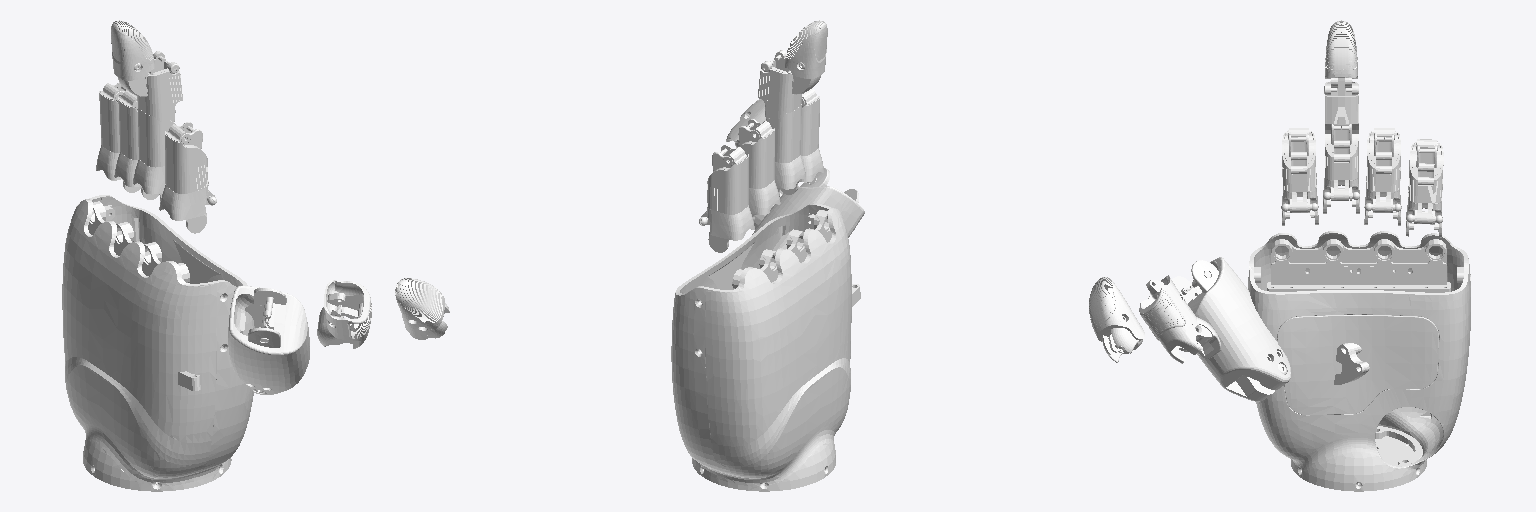
URDF robot description (likerhand_o7_1_left.urdf):
<?xml version="1.0" encoding="utf-8"?>
<!-- This URDF was automatically created by SolidWorks to URDF Exporter! Originally created by [author] ([email redacted]) 
     Commit Version: 1.6.0-4-g7f85cfe  Build Version: 1.6.7995.38578
     For more information, please see http://wiki.ros.org/sw_urdf_exporter -->
<robot
  name="likerhand_o7_1_left.urdf">
  <link
    name="hand_base_link">
    <inertial>
      <origin
        xyz="-0.0042500911837508 0.00085680978297864 0.0748400307377518"
        rpy="0 0 0" />
      <mass
        value="0.225124072566834" />
      <inertia
        ixx="0.000307215791868368"
        ixy="-2.62393594835236E-06"
        ixz="-6.32980141818779E-06"
        iyy="0.000204974944876431"
        iyz="3.62195604578169E-06"
        izz="0.000138551118704521" />
    </inertial>
    <visual>
      <origin
        xyz="0 0 0"
        rpy="0 0 0" />
      <geometry>
        <mesh
          filename="meshes/hand_base_link.STL" />
      </geometry>
      <material
        name="">
        <color
          rgba="1 1 1 1" />
      </material>
    </visual>
    <collision>
      <origin
        xyz="0 0 0"
        rpy="0 0 0" />
      <geometry>
        <mesh
          filename="meshes/hand_base_link.STL" />
      </geometry>
    </collision>
  </link>
  <link
    name="thumb_metacarpals_base1">
    <inertial>
      <origin
        xyz="0.0221868758326095 -9.48625995070285E-06 -0.00324883171979469"
        rpy="0 0 0" />
      <mass
        value="0.0115244960032222" />
      <inertia
        ixx="3.08657221406028E-06"
        ixy="2.39576891596808E-09"
        ixz="3.1376074283793E-07"
        iyy="4.37069643376973E-06"
        iyz="1.08562146715063E-09"
        izz="1.95654132689649E-06" />
    </inertial>
    <visual>
      <origin
        xyz="0 0 0"
        rpy="0 0 0" />
      <geometry>
        <mesh
          filename="meshes/thumb_metacarpals_base1.STL" />
      </geometry>
      <material
        name="">
        <color
          rgba="1 1 1 1" />
      </material>
    </visual>
    <collision>
      <origin
        xyz="0 0 0"
        rpy="0 0 0" />
      <geometry>
        <mesh
          filename="meshes/thumb_metacarpals_base1.STL" />
      </geometry>
    </collision>
  </link>
  <joint
    name="thumb_cmc_roll"
    type="revolute">
    <origin
      xyz="-0.016939 -0.018427 0.057465"
      rpy="0 0 0" />
    <parent
      link="hand_base_link" />
    <child
      link="thumb_metacarpals_base1" />
    <axis
      xyz="-1 0 0" />
    <limit
      lower="-0.785"
      upper="0.785"
      effort="100"
      velocity="1" />
  </joint>
  <link
    name="thumb_metacarpals_base2">
    <inertial>
      <origin
        xyz="0.000732158506501421 -0.00116891771237498 -0.00114043413649958"
        rpy="0 0 0" />
      <mass
        value="0.0194012482707974" />
      <inertia
        ixx="3.11023242394477E-06"
        ixy="7.00345951479998E-07"
        ixz="-3.45895864415883E-08"
        iyy="2.43362631795933E-06"
        iyz="5.55699212497148E-08"
        izz="2.77691812675186E-06" />
    </inertial>
    <visual>
      <origin
        xyz="0 0 0"
        rpy="0 0 0" />
      <geometry>
        <mesh
          filename="meshes/thumb_metacarpals_base2.STL" />
      </geometry>
      <material
        name="">
        <color
          rgba="1 1 1 1" />
      </material>
    </visual>
    <collision>
      <origin
        xyz="0 0 0"
        rpy="0 0 0" />
      <geometry>
        <mesh
          filename="meshes/thumb_metacarpals_base2.STL" />
      </geometry>
    </collision>
  </link>
  <joint
    name="thumb_cmc_yaw"
    type="revolute">
    <origin
      xyz="0.029224 0.00012028 0.0020117"
      rpy="0 0 0" />
    <parent
      link="thumb_metacarpals_base1" />
    <child
      link="thumb_metacarpals_base2" />
    <axis
      xyz="0 0 1" />
    <limit
      lower="0"
      upper="1.57"
      effort="100"
      velocity="1" />
  </joint>
  <link
    name="thumb_metacarpals">
    <inertial>
      <origin
        xyz="0.00175928357967789 5.98422066862003E-05 0.0251802708380432"
        rpy="0 0 0" />
      <mass
        value="0.0177522528853587" />
      <inertia
        ixx="2.97620250609612E-06"
        ixy="-1.75606406726447E-10"
        ixz="8.88206077184725E-08"
        iyy="4.02119583080426E-06"
        iyz="-5.14340714112944E-10"
        izz="1.61792798866592E-06" />
    </inertial>
    <visual>
      <origin
        xyz="0 0 0"
        rpy="0 0 0" />
      <geometry>
        <mesh
          filename="meshes/thumb_metacarpals.STL" />
      </geometry>
      <material
        name="">
        <color
          rgba="1 1 1 1" />
      </material>
    </visual>
    <collision>
      <origin
        xyz="0 0 0"
        rpy="0 0 0" />
      <geometry>
        <mesh
          filename="meshes/thumb_metacarpals.STL" />
      </geometry>
    </collision>
  </link>
  <joint
    name="thumb_cmc_pitch"
    type="revolute">
    <origin
      xyz="0.015425 -0.024408 -0.0034929"
      rpy="0 -1.1075 2.1313" />
    <parent
      link="thumb_metacarpals_base2" />
    <child
      link="thumb_metacarpals" />
    <axis
      xyz="0 1 0" />
    <limit
      lower="0"
      upper="0.5285"
      effort="100"
      velocity="1" />
  </joint>
  <link
    name="thumb_proximal">
    <inertial>
      <origin
        xyz="-0.000134514656695575 -6.2245440023978E-06 0.0155657254696806"
        rpy="0 0 0" />
      <mass
        value="0.00522318022645753" />
      <inertia
        ixx="9.25272679777908E-07"
        ixy="8.8733597010757E-12"
        ixz="1.11610235976856E-07"
        iyy="8.23288983910426E-07"
        iyz="-4.13122351934137E-11"
        izz="4.09240194803836E-07" />
    </inertial>
    <visual>
      <origin
        xyz="0 0 0"
        rpy="0 0 0" />
      <geometry>
        <mesh
          filename="meshes/thumb_proximal.STL" />
      </geometry>
      <material
        name="">
        <color
          rgba="1 1 1 1" />
      </material>
    </visual>
    <collision>
      <origin
        xyz="0 0 0"
        rpy="0 0 0" />
      <geometry>
        <mesh
          filename="meshes/thumb_proximal.STL" />
      </geometry>
    </collision>
  </link>
  <joint
    name="thumb_mcp"
    type="revolute">
    <origin
      xyz="0.0049422 0 0.050268"
      rpy="0 0 0" />
    <parent
      link="thumb_metacarpals" />
    <child
      link="thumb_proximal" />
    <axis
      xyz="0 1 0" />
    <limit
      lower="0"
      upper="1.186"
      effort="100"
      velocity="1" />
    <mimic
      joint="thumb_cmc_pitch"
      multiplier="2.24"
      offset="0" />
  </joint>
  <link
    name="thumb_distal">
    <inertial>
      <origin
        xyz="-0.0012828823583598 8.66398637835997E-06 0.0121296195661648"
        rpy="0 0 0" />
      <mass
        value="0.0059927321340954" />
      <inertia
        ixx="3.54974702508419E-07"
        ixy="2.25470558333717E-10"
        ixz="1.02705988899827E-07"
        iyy="3.68385773825653E-07"
        iyz="5.55834292489291E-11"
        izz="2.80219721351633E-07" />
    </inertial>
    <visual>
      <origin
        xyz="0 0 0"
        rpy="0 0 0" />
      <geometry>
        <mesh
          filename="meshes/thumb_distal.STL" />
      </geometry>
      <material
        name="">
        <color
          rgba="1 1 1 1" />
      </material>
    </visual>
    <collision>
      <origin
        xyz="0 0 0"
        rpy="0 0 0" />
      <geometry>
        <mesh
          filename="meshes/thumb_distal.STL" />
      </geometry>
    </collision>
  </link>
  <joint
    name="thumb_ip"
    type="revolute">
    <origin
      xyz="-0.0040391 0 0.036444"
      rpy="0 0 0" />
    <parent
      link="thumb_proximal" />
    <child
      link="thumb_distal" />
    <axis
      xyz="0 1 0" />
    <limit
      lower="0"
      upper="1.256"
      effort="100"
      velocity="1" />
    <mimic
      joint="thumb_cmc_pitch"
      multiplier="2.38"
      offset="0" />
  </joint>
  <link
    name="index_proximal">
    <inertial>
      <origin
        xyz="-0.00325184022307572 -5.73777268036979E-05 0.0195194519488432"
        rpy="0 0 0" />
      <mass
        value="0.00304918852223857" />
      <inertia
        ixx="2.70561430617686E-07"
        ixy="4.04016903074442E-10"
        ixz="3.98546481487138E-08"
        iyy="2.61413228132876E-07"
        iyz="1.27694129235523E-09"
        izz="1.43213403424246E-07" />
    </inertial>
    <visual>
      <origin
        xyz="0 0 0"
        rpy="0 0 0" />
      <geometry>
        <mesh
          filename="meshes/index_proximal.STL" />
      </geometry>
      <material
        name="">
        <color
          rgba="1 1 1 1" />
      </material>
    </visual>
    <collision>
      <origin
        xyz="0 0 0"
        rpy="0 0 0" />
      <geometry>
        <mesh
          filename="meshes/index_proximal.STL" />
      </geometry>
    </collision>
  </link>
  <joint
    name="index_mcp_pitch"
    type="revolute">
    <origin
      xyz="-0.0010899 -0.027484 0.1273"
      rpy="0.017453 0 0" />
    <parent
      link="hand_base_link" />
    <child
      link="index_proximal" />
    <axis
      xyz="0 1 0" />
    <limit
      lower="0"
      upper="1.325"
      effort="100"
      velocity="1" />
  </joint>
  <link
    name="index_middle">
    <inertial>
      <origin
        xyz="-0.00220166605939472 0.000343544227875414 0.0115244041402905"
        rpy="0 0 0" />
      <mass
        value="0.00325826222115125" />
      <inertia
        ixx="2.84903328684065E-07"
        ixy="-1.91220675187704E-09"
        ixz="4.46236233645146E-08"
        iyy="2.60287147871894E-07"
        iyz="4.72747608453597E-09"
        izz="1.33240305815556E-07" />
    </inertial>
    <visual>
      <origin
        xyz="0 0 0"
        rpy="0 0 0" />
      <geometry>
        <mesh
          filename="meshes/index_middle.STL" />
      </geometry>
      <material
        name="">
        <color
          rgba="1 1 1 1" />
      </material>
    </visual>
    <collision>
      <origin
        xyz="0 0 0"
        rpy="0 0 0" />
      <geometry>
        <mesh
          filename="meshes/index_middle.STL" />
      </geometry>
    </collision>
  </link>
  <joint
    name="index_pip"
    type="revolute">
    <origin
      xyz="-0.0033727 0 0.03351"
      rpy="0 0 0" />
    <parent
      link="index_proximal" />
    <child
      link="index_middle" />
    <axis
      xyz="0 1 0" />
    <limit
      lower="0"
      upper="1.57"
      effort="100"
      velocity="1" />
    <mimic
      joint="index_mcp_pitch"
      multiplier="1.18"
      offset="0" />
  </joint>
  <link
    name="index_distal">
    <inertial>
      <origin
        xyz="0.000205192768436009 5.00807908632439E-05 0.0116640269704398"
        rpy="0 0 0" />
      <mass
        value="0.00386914599414329" />
      <inertia
        ixx="2.13092899098193E-07"
        ixy="-4.43659936071928E-10"
        ixz="4.32266496521949E-08"
        iyy="2.07077941254489E-07"
        iyz="3.00868537950707E-09"
        izz="1.20295876651976E-07" />
    </inertial>
    <visual>
      <origin
        xyz="0 0 0"
        rpy="0 0 0" />
      <geometry>
        <mesh
          filename="meshes/index_distal.STL" />
      </geometry>
      <material
        name="">
        <color
          rgba="1 1 1 1" />
      </material>
    </visual>
    <collision>
      <origin
        xyz="0 0 0"
        rpy="0 0 0" />
      <geometry>
        <mesh
          filename="meshes/index_distal.STL" />
      </geometry>
    </collision>
  </link>
  <joint
    name="index_dip"
    type="revolute">
    <origin
      xyz="-0.0050438 0 0.025752"
      rpy="0 0 0" />
    <parent
      link="index_middle" />
    <child
      link="index_distal" />
    <axis
      xyz="0 1 0" />
    <limit
      lower="0"
      upper="1"
      effort="100"
      velocity="1" />
    <mimic
      joint="index_mcp_pitch"
      multiplier="0.7493"
      offset="0" />
  </joint>
  <link
    name="middle_proximal">
    <inertial>
      <origin
        xyz="-0.00325186288012639 -5.73454626350833E-05 0.0195195889004449"
        rpy="0 0 0" />
      <mass
        value="0.00304916574973766" />
      <inertia
        ixx="2.70554051207578E-07"
        ixy="4.03711836861357E-10"
        ixz="3.98537937936656E-08"
        iyy="2.61406398624621E-07"
        iyz="1.278882248156E-09"
        izz="1.43213023085845E-07" />
    </inertial>
    <visual>
      <origin
        xyz="0 0 0"
        rpy="0 0 0" />
      <geometry>
        <mesh
          filename="meshes/middle_proximal.STL" />
      </geometry>
      <material
        name="">
        <color
          rgba="1 1 1 1" />
      </material>
    </visual>
    <collision>
      <origin
        xyz="0 0 0"
        rpy="0 0 0" />
      <geometry>
        <mesh
          filename="meshes/middle_proximal.STL" />
      </geometry>
    </collision>
  </link>
  <joint
    name="middle_mcp_pitch"
    type="revolute">
    <origin
      xyz="-0.0030759 -0.0081771 0.1323"
      rpy="0 0 0" />
    <parent
      link="hand_base_link" />
    <child
      link="middle_proximal" />
    <axis
      xyz="0 1 0" />
    <limit
      lower="0"
      upper="1.325"
      effort="100"
      velocity="1" />
  </joint>
  <link
    name="middle_middle">
    <inertial>
      <origin
        xyz="-0.00220166778232146 0.000343539248883085 0.0115243995791403"
        rpy="0 0 0" />
      <mass
        value="0.00325826090000982" />
      <inertia
        ixx="2.84903242801029E-07"
        ixy="-1.91226349169516E-09"
        ixz="4.46235974644869E-08"
        iyy="2.60287108562876E-07"
        iyz="4.72757371001898E-09"
        izz="1.33240236728541E-07" />
    </inertial>
    <visual>
      <origin
        xyz="0 0 0"
        rpy="0 0 0" />
      <geometry>
        <mesh
          filename="meshes/middle_middle.STL" />
      </geometry>
      <material
        name="">
        <color
          rgba="1 1 1 1" />
      </material>
    </visual>
    <collision>
      <origin
        xyz="0 0 0"
        rpy="0 0 0" />
      <geometry>
        <mesh
          filename="meshes/middle_middle.STL" />
      </geometry>
    </collision>
  </link>
  <joint
    name="middle_pip"
    type="revolute">
    <origin
      xyz="-0.0033727 0 0.03351"
      rpy="0 0 0" />
    <parent
      link="middle_proximal" />
    <child
      link="middle_middle" />
    <axis
      xyz="0 1 0" />
    <limit
      lower="0"
      upper="1.57"
      effort="100"
      velocity="1" />
    <mimic
      joint="middle_mcp_pitch"
      multiplier="1.18"
      offset="0" />
  </joint>
  <link
    name="middle_distal">
    <inertial>
      <origin
        xyz="0.000205178072639707 5.00682687798182E-05 0.0116640598651227"
        rpy="0 0 0" />
      <mass
        value="0.00386915654397527" />
      <inertia
        ixx="2.13094283443978E-07"
        ixy="-4.4383622725015E-10"
        ixz="4.32271566193733E-08"
        iyy="2.07079487486431E-07"
        iyz="3.00914543235198E-09"
        izz="1.20296117946962E-07" />
    </inertial>
    <visual>
      <origin
        xyz="0 0 0"
        rpy="0 0 0" />
      <geometry>
        <mesh
          filename="meshes/middle_distal.STL" />
      </geometry>
      <material
        name="">
        <color
          rgba="1 1 1 1" />
      </material>
    </visual>
    <collision>
      <origin
        xyz="0 0 0"
        rpy="0 0 0" />
      <geometry>
        <mesh
          filename="meshes/middle_distal.STL" />
      </geometry>
    </collision>
  </link>
  <joint
    name="middle_dip"
    type="revolute">
    <origin
      xyz="-0.0050438 0 0.025752"
      rpy="0 0 0" />
    <parent
      link="middle_middle" />
    <child
      link="middle_distal" />
    <axis
      xyz="0 1 0" />
    <limit
      lower="0"
      upper="1"
      effort="100"
      velocity="1" />
    <mimic
      joint="middle_mcp_pitch"
      multiplier="0.7493"
      offset="0" />
  </joint>
  <link
    name="ring_proximal">
    <inertial>
      <origin
        xyz="-0.00325188639109948 -5.73091636886791E-05 0.0195197425412056"
        rpy="0 0 0" />
      <mass
        value="0.00304914173423174" />
      <inertia
        ixx="2.70545905130282E-07"
        ixy="4.03369804356248E-10"
        ixz="3.98528630246444E-08"
        iyy="2.61398848427869E-07"
        iyz="1.28105530251793E-09"
        izz="1.43212636885902E-07" />
    </inertial>
    <visual>
      <origin
        xyz="0 0 0"
        rpy="0 0 0" />
      <geometry>
        <mesh
          filename="meshes/ring_proximal.STL" />
      </geometry>
      <material
        name="">
        <color
          rgba="1 1 1 1" />
      </material>
    </visual>
    <collision>
      <origin
        xyz="0 0 0"
        rpy="0 0 0" />
      <geometry>
        <mesh
          filename="meshes/ring_proximal.STL" />
      </geometry>
    </collision>
  </link>
  <joint
    name="ring_mcp_pitch"
    type="revolute">
    <origin
      xyz="-0.0010899 0.01113 0.1273"
      rpy="-0.017453 0 0" />
    <parent
      link="hand_base_link" />
    <child
      link="ring_proximal" />
    <axis
      xyz="0 1 0" />
    <limit
      lower="0"
      upper="1.325"
      effort="100"
      velocity="1" />
  </joint>
  <link
    name="ring_middle">
    <inertial>
      <origin
        xyz="-0.00220166573650245 0.000343543985173556 0.0115244051126353"
        rpy="0 0 0" />
      <mass
        value="0.00325826270162551" />
      <inertia
        ixx="2.8490335431282E-07"
        ixy="-1.91220861885623E-09"
        ixz="4.46236286956316E-08"
        iyy="2.60287161545827E-07"
        iyz="4.72747837494482E-09"
        izz="1.3324032112194E-07" />
    </inertial>
    <visual>
      <origin
        xyz="0 0 0"
        rpy="0 0 0" />
      <geometry>
        <mesh
          filename="meshes/ring_middle.STL" />
      </geometry>
      <material
        name="">
        <color
          rgba="1 1 1 1" />
      </material>
    </visual>
    <collision>
      <origin
        xyz="0 0 0"
        rpy="0 0 0" />
      <geometry>
        <mesh
          filename="meshes/ring_middle.STL" />
      </geometry>
    </collision>
  </link>
  <joint
    name="ring_pip"
    type="revolute">
    <origin
      xyz="-0.0033727 0 0.03351"
      rpy="0 0 0" />
    <parent
      link="ring_proximal" />
    <child
      link="ring_middle" />
    <axis
      xyz="0 1 0" />
    <limit
      lower="0"
      upper="1.57"
      effort="100"
      velocity="1" />
    <mimic
      joint="ring_mcp_pitch"
      multiplier="1.18"
      offset="0" />
  </joint>
  <link
    name="ring_distal">
    <inertial>
      <origin
        xyz="0.000205171820409959 5.00624731339938E-05 0.0116640697629539"
        rpy="0 0 0" />
      <mass
        value="0.00386915820986361" />
      <inertia
        ixx="2.13094587693163E-07"
        ixy="-4.43940590912624E-10"
        ixz="4.32272330130178E-08"
        iyy="2.07079828868233E-07"
        iyz="3.00935119539752E-09"
        izz="1.20296055752743E-07" />
    </inertial>
    <visual>
      <origin
        xyz="0 0 0"
        rpy="0 0 0" />
      <geometry>
        <mesh
          filename="meshes/ring_distal.STL" />
      </geometry>
      <material
        name="">
        <color
          rgba="1 1 1 1" />
      </material>
    </visual>
    <collision>
      <origin
        xyz="0 0 0"
        rpy="0 0 0" />
      <geometry>
        <mesh
          filename="meshes/ring_distal.STL" />
      </geometry>
    </collision>
  </link>
  <joint
    name="ring_dip"
    type="revolute">
    <origin
      xyz="-0.0050438 0 0.025752"
      rpy="0 0 0" />
    <parent
      link="ring_middle" />
    <child
      link="ring_distal" />
    <axis
      xyz="0 1 0" />
    <limit
      lower="0"
      upper="1"
      effort="100"
      velocity="1" />
    <mimic
      joint="ring_mcp_pitch"
      multiplier="0.7493"
      offset="0" />
  </joint>
  <link
    name="pinky_proximal">
    <inertial>
      <origin
        xyz="-0.00325189370161746 -5.72983166947649E-05 0.0195197823487483"
        rpy="0 0 0" />
      <mass
        value="0.0030491364649747" />
      <inertia
        ixx="2.70544107359494E-07"
        ixy="4.03294066340961E-10"
        ixz="3.98526745300938E-08"
        iyy="2.61397222251281E-07"
        iyz="1.28156767029427E-09"
        izz="1.43212528194326E-07" />
    </inertial>
    <visual>
      <origin
        xyz="0 0 0"
        rpy="0 0 0" />
      <geometry>
        <mesh
          filename="meshes/pinky_proximal.STL" />
      </geometry>
      <material
        name="">
        <color
          rgba="1 1 1 1" />
      </material>
    </visual>
    <collision>
      <origin
        xyz="0 0 0"
        rpy="0 0 0" />
      <geometry>
        <mesh
          filename="meshes/pinky_proximal.STL" />
      </geometry>
    </collision>
  </link>
  <joint
    name="pinky_mcp_pitch"
    type="revolute">
    <origin
      xyz="0.00091015 0.030436 0.12229"
      rpy="-0.034907 0 0" />
    <parent
      link="hand_base_link" />
    <child
      link="pinky_proximal" />
    <axis
      xyz="0 1 0" />
    <limit
      lower="0"
      upper="1.325"
      effort="100"
      velocity="1" />
  </joint>
  <link
    name="pinky_middle">
    <inertial>
      <origin
        xyz="-0.002201665613911 0.000343544066900431 0.0115244051215708"
        rpy="0 0 0" />
      <mass
        value="0.00325826278499646" />
      <inertia
        ixx="2.84903357062453E-07"
        ixy="-1.91220937408046E-09"
        ixz="4.46236295954511E-08"
        iyy="2.60287165262845E-07"
        iyz="4.72747841623595E-09"
        izz="1.33240325394021E-07" />
    </inertial>
    <visual>
      <origin
        xyz="0 0 0"
        rpy="0 0 0" />
      <geometry>
        <mesh
          filename="meshes/pinky_middle.STL" />
      </geometry>
      <material
        name="">
        <color
          rgba="1 1 1 1" />
      </material>
    </visual>
    <collision>
      <origin
        xyz="0 0 0"
        rpy="0 0 0" />
      <geometry>
        <mesh
          filename="meshes/pinky_middle.STL" />
      </geometry>
    </collision>
  </link>
  <joint
    name="pinky_pip"
    type="revolute">
    <origin
      xyz="-0.0033727 0 0.03351"
      rpy="0 0 0" />
    <parent
      link="pinky_proximal" />
    <child
      link="pinky_middle" />
    <axis
      xyz="0 1 0" />
    <limit
      lower="0"
      upper="1.57"
      effort="100"
      velocity="1" />
    <mimic
      joint="pinky_mcp_pitch"
      multiplier="1.18"
      offset="0" />
  </joint>
  <link
    name="pinky_distal">
    <inertial>
      <origin
        xyz="0.000205168748081741 5.00603283008771E-05 0.0116640796497016"
        rpy="0 0 0" />
      <mass
        value="0.00386915855597929" />
      <inertia
        ixx="2.1309463405403E-07"
        ixy="-4.43985775170374E-10"
        ixz="4.32272565907302E-08"
        iyy="2.07079916973927E-07"
        iyz="3.00952443609274E-09"
        izz="1.20295986265221E-07" />
    </inertial>
    <visual>
      <origin
        xyz="0 0 0"
        rpy="0 0 0" />
      <geometry>
        <mesh
          filename="meshes/pinky_distal.STL" />
      </geometry>
      <material
        name="">
        <color
          rgba="1 1 1 1" />
      </material>
    </visual>
    <collision>
      <origin
        xyz="0 0 0"
        rpy="0 0 0" />
      <geometry>
        <mesh
          filename="meshes/pinky_distal.STL" />
      </geometry>
    </collision>
  </link>
  <joint
    name="pinky_dip"
    type="revolute">
    <origin
      xyz="-0.0050438 0 0.025752"
      rpy="0 0 0" />
    <parent
      link="pinky_middle" />
    <child
      link="pinky_distal" />
    <axis
      xyz="0 1 0" />
    <limit
      lower="0"
      upper="1"
      effort="100"
      velocity="1" />
    <mimic
      joint="pinky_mcp_pitch"
      multiplier="0.7493"
      offset="0" />
  </joint>
</robot>

--- What the picture shows (computed from the rendered views, not written in the file) ---
3 views of the same robot in one strip: view 1: azimuth 30°, elevation 25°; view 2: azimuth 150°, elevation 25°; view 3: azimuth 270°, elevation 25° (orthographic).
Model likerhand_o7_1_left.urdf with 18 links and 17 joints (17 revolute), rooted at hand_base_link, posed all joints at 0.
Visible links, largest first — view 1: hand_base_link, thumb_metacarpals, index_proximal, thumb_proximal, thumb_distal, middle_distal, middle_proximal, middle_middle, pinky_proximal, ring_proximal; view 2: hand_base_link, pinky_proximal, ring_proximal, thumb_metacarpals, middle_distal, middle_proximal, middle_middle, index_proximal, thumb_distal; view 3: hand_base_link, thumb_metacarpals, thumb_proximal, pinky_proximal, index_proximal, ring_proximal, thumb_distal, middle_proximal, middle_distal, middle_middle, thumb_metacarpals_base2.
Boxes of the visible links, x1,y1,x2,y2 form: hand_base_link: (62,195,254,491); thumb_metacarpals: (228,286,309,394); index_proximal: (159,122,216,233); thumb_proximal: (317,280,371,348); thumb_distal: (395,278,449,339); middle_distal: (111,20,154,96); middle_proximal: (133,108,175,201); middle_middle: (137,51,182,131); pinky_proximal: (96,82,140,192); ring_proximal: (114,91,158,199); hand_base_link: (671,203,851,491); pinky_proximal: (699,145,754,252); ring_proximal: (738,119,780,220); thumb_metacarpals: (752,168,864,250); middle_distal: (785,20,827,94); middle_proximal: (763,104,805,196); middle_middle: (758,50,801,127); index_proximal: (781,89,823,194); thumb_distal: (726,99,765,147); hand_base_link: (1248,231,1470,491); thumb_metacarpals: (1172,257,1290,401); thumb_proximal: (1139,275,1220,363); pinky_proximal: (1406,139,1443,237); index_proximal: (1281,128,1318,225); ring_proximal: (1364,128,1401,225); thumb_distal: (1089,277,1144,362); middle_proximal: (1323,124,1359,213); middle_distal: (1325,20,1357,95); middle_middle: (1324,81,1358,133); thumb_metacarpals_base2: (1334,343,1369,384).
Size in the robot's own frame: 0.1132 by 0.179 by 0.2169 metres.
12 mesh visuals loaded from 18 distinct referenced files (12 binary STL); not drawn: 6 (reference not matched to a file when rendering).
